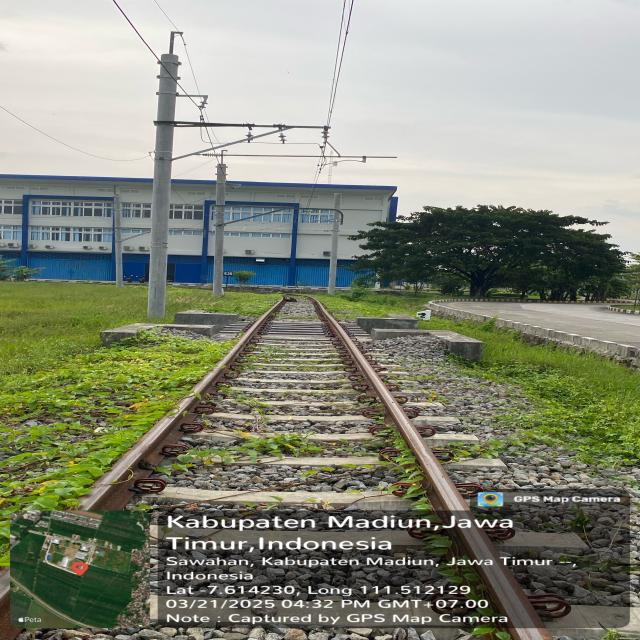rail-detection: (314, 300, 551, 640), (80, 311, 272, 510)
